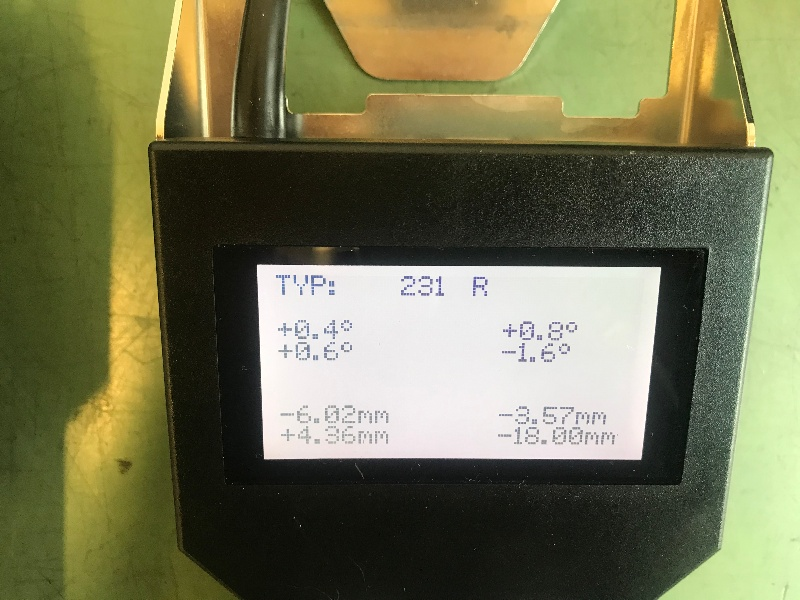ins_one: (212, 246, 700, 482)
